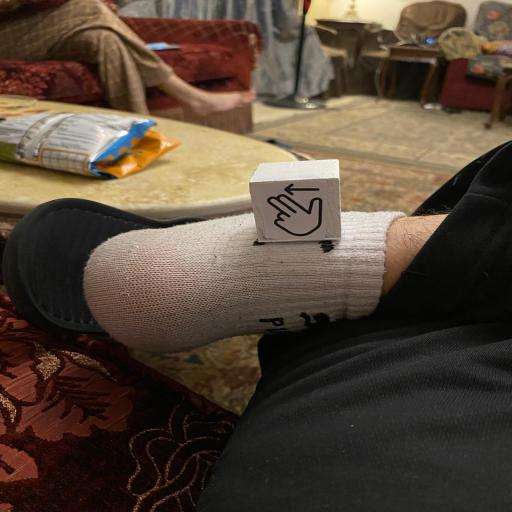LeftSwipe: (247, 160, 343, 244)
